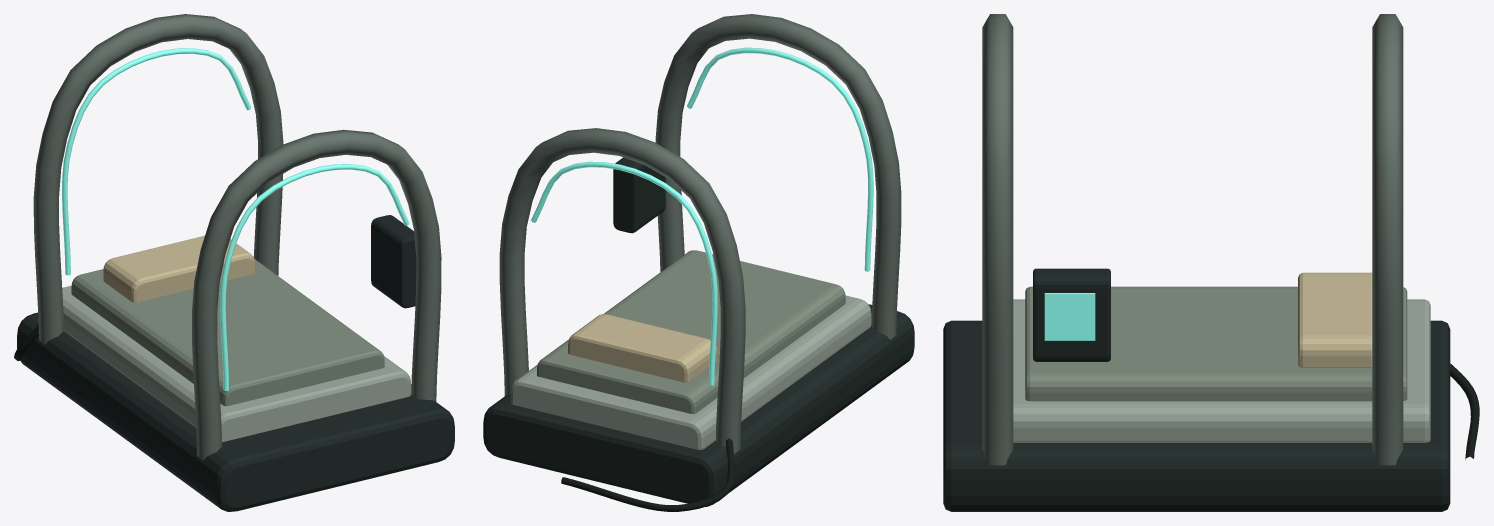
The model's file is restoration-pod.glb.
3 renders of one model, left to right at view 1: azimuth 30°, elevation 25°; view 2: azimuth 150°, elevation 25°; view 3: azimuth 270°, elevation 25°, orthographic. The views are drawn at different scales.
Parts seen in each view (by area): view 1: restoration-pod-steel, restoration-pod-dark, restoration-pod-cloth, restoration-pod-enamel, restoration-pod-ivory, restoration-pod-screen; view 2: restoration-pod-steel, restoration-pod-dark, restoration-pod-cloth, restoration-pod-enamel, restoration-pod-ivory, restoration-pod-screen, restoration-pod-rubber; view 3: restoration-pod-dark, restoration-pod-cloth, restoration-pod-steel, restoration-pod-enamel, restoration-pod-ivory, restoration-pod-screen, restoration-pod-rubber.
Boxes of the visible parts, x1,y1,x2,y2 form: restoration-pod-steel: [33, 14, 441, 460]; restoration-pod-dark: [17, 215, 454, 511]; restoration-pod-cloth: [71, 258, 384, 406]; restoration-pod-enamel: [62, 285, 411, 442]; restoration-pod-ivory: [103, 235, 254, 302]; restoration-pod-screen: [62, 48, 409, 390]; restoration-pod-steel: [499, 14, 901, 453]; restoration-pod-dark: [483, 143, 914, 506]; restoration-pod-cloth: [537, 250, 845, 413]; restoration-pod-enamel: [511, 295, 871, 449]; restoration-pod-ivory: [568, 314, 717, 382]; restoration-pod-screen: [531, 47, 873, 385]; restoration-pod-rubber: [561, 438, 734, 511]; restoration-pod-dark: [943, 268, 1450, 511]; restoration-pod-cloth: [1025, 286, 1407, 401]; restoration-pod-steel: [982, 14, 1403, 465]; restoration-pod-enamel: [1013, 299, 1430, 442]; restoration-pod-ivory: [1298, 272, 1372, 367]; restoration-pod-screen: [1044, 293, 1095, 340]; restoration-pod-rubber: [1450, 363, 1479, 459].
Bounding box in the file's own units: 1.83 × 2.37 × 2.75.
